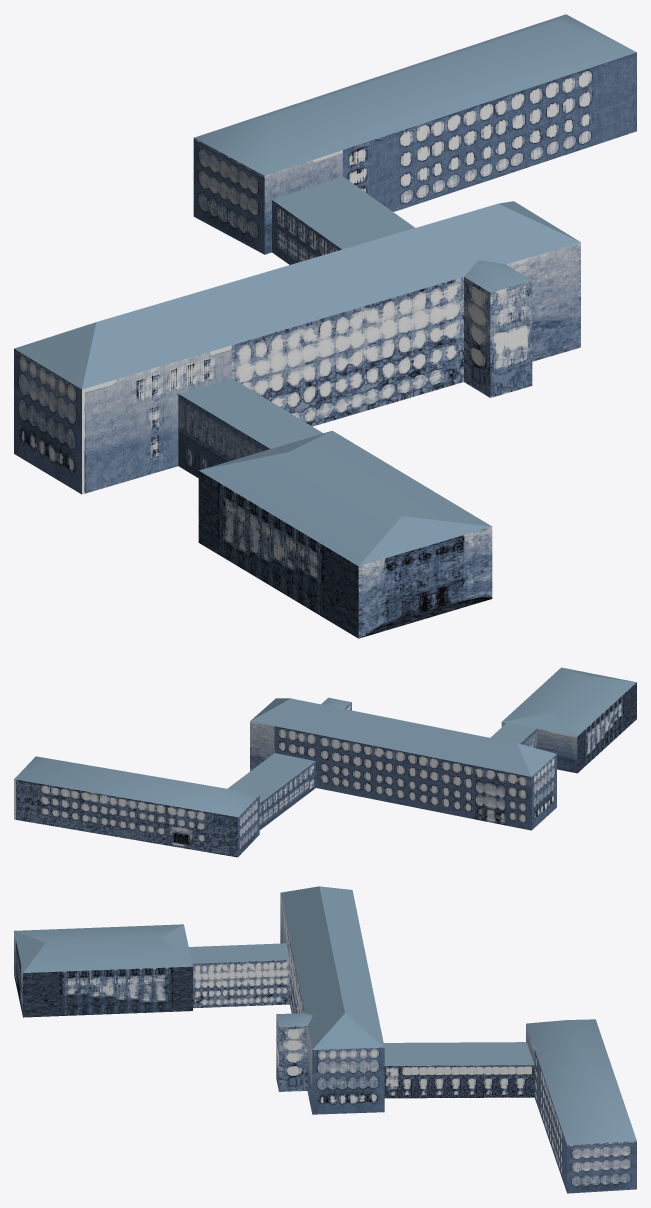
The model's file is Gerhart-Potthoff-Bau.gltf.
3 views of the same model, one above another, from view 1: azimuth 30°, elevation 25°; view 2: azimuth 150°, elevation 25°; view 3: azimuth 270°, elevation 25° (orthographic). The views are drawn at different scales.
Parts seen in each view (by area): view 1: Dach.1; view 2: Dach.1; view 3: Dach.1.
Boxes of the visible parts, x1=… form: Dach.1: x1=14, y1=14, x2=636, y2=638; Dach.1: x1=14, y1=667, x2=636, y2=857; Dach.1: x1=14, y1=886, x2=636, y2=1193.
Size of the model in its own units: 127 by 21 by 140.
Materials: 18 (17 with a texture image).
